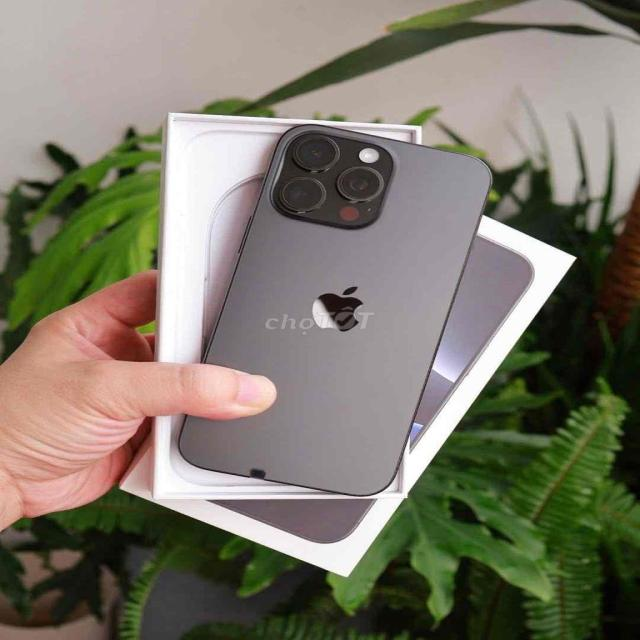gen_16: (183, 120, 493, 500)
